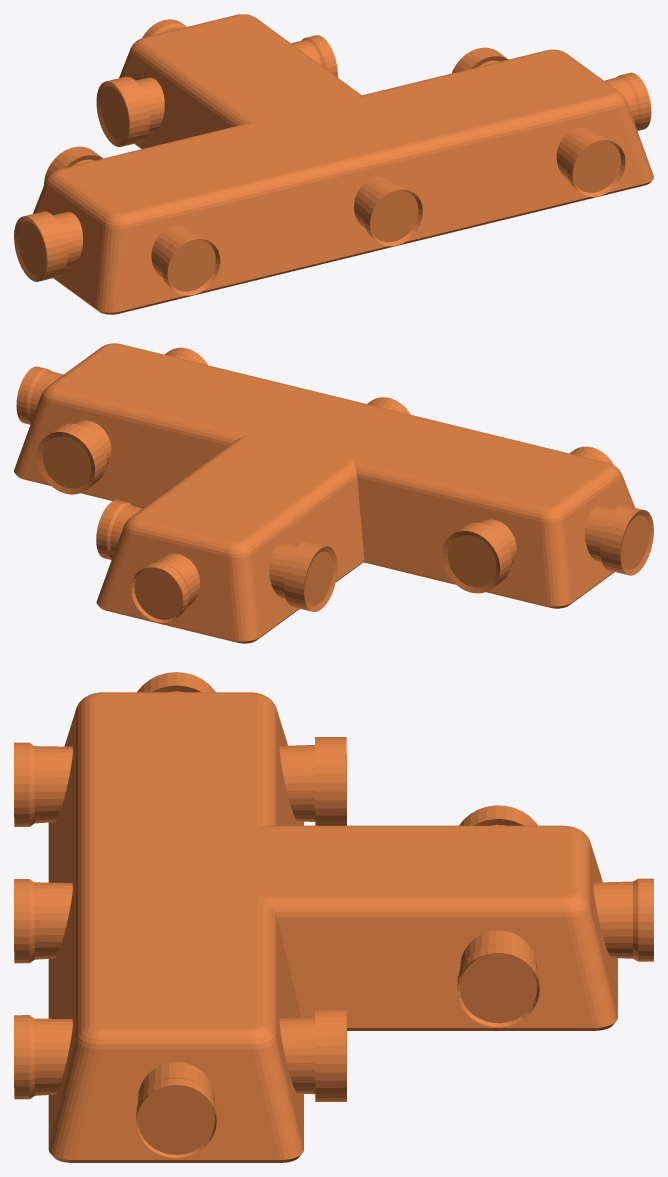
The model's file is 16num.fbx.
3 renders of one model, top to bottom at view 1: azimuth 30°, elevation 25°; view 2: azimuth 150°, elevation 25°; view 3: azimuth 270°, elevation 25°, orthographic. The views are drawn at different scales.
Parts seen in each view (by area): view 1: Cube.018; view 2: Cube.018; view 3: Cube.018.
Boxes of the visible parts, left/top/right/bottom form: Cube.018: left=14, top=14, right=653, bottom=314; Cube.018: left=14, top=343, right=653, bottom=643; Cube.018: left=14, top=672, right=653, bottom=1162.
Size of the model in its own units: 7.48 by 1 by 4.97.
